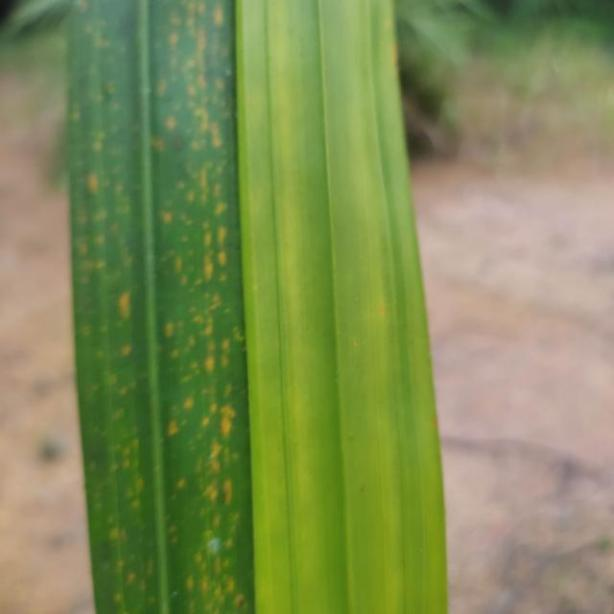nitrogen: (64, 0, 448, 614)
